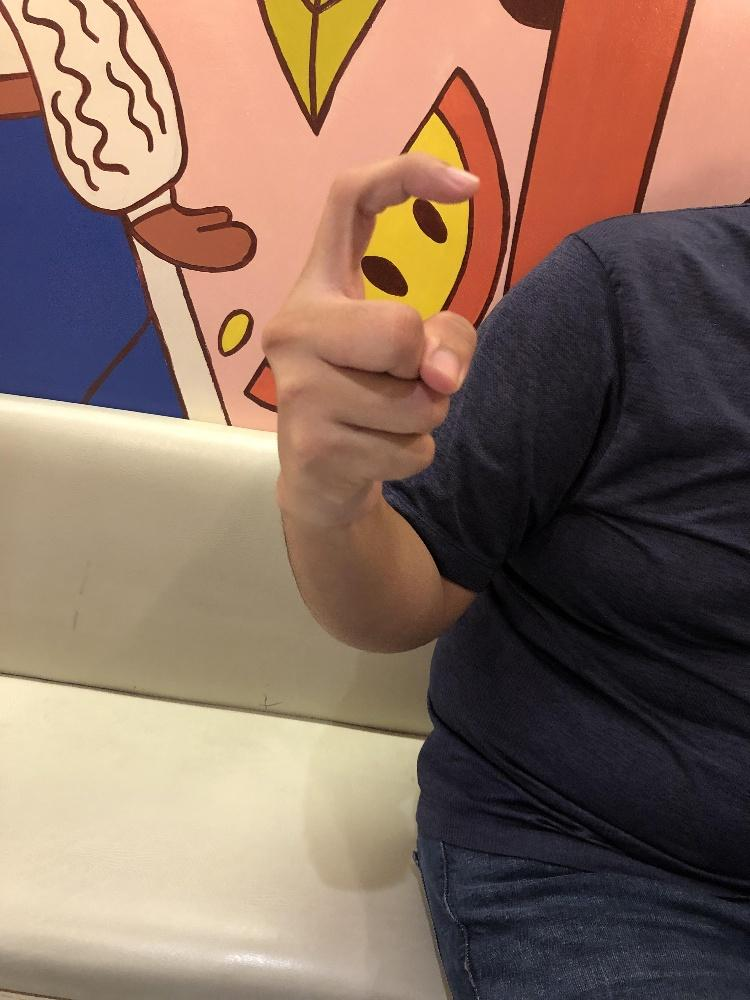x: (255, 149, 482, 501)
